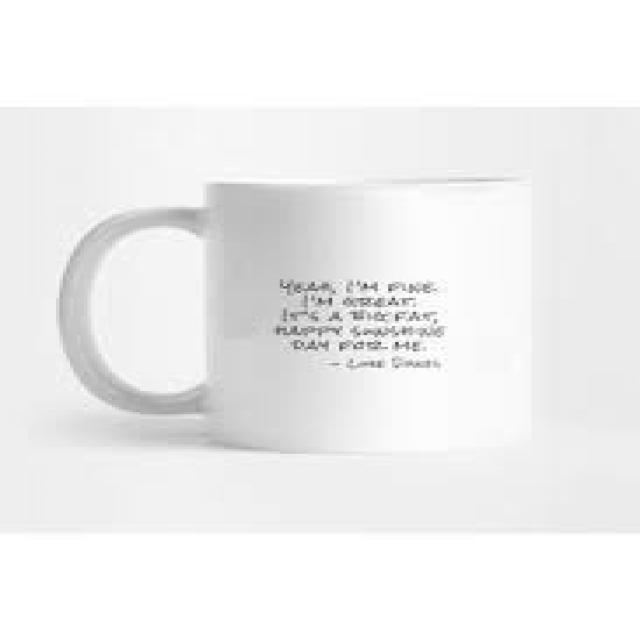taza: (59, 179, 536, 457)
